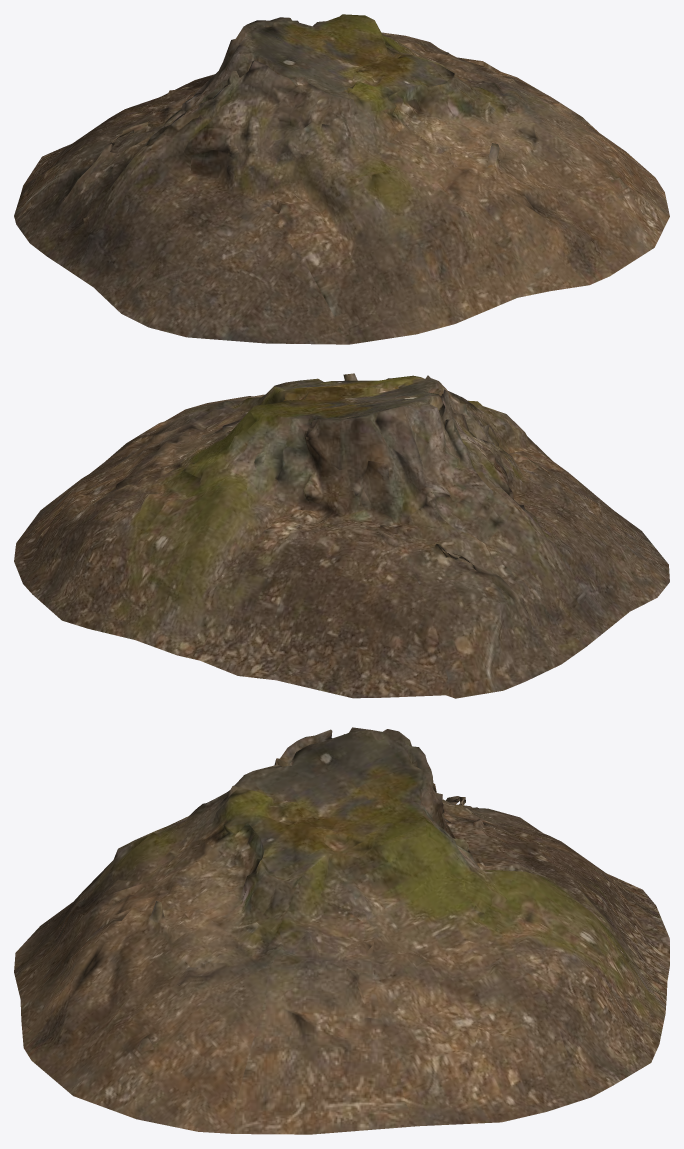
The model's file is tree_stump_02.glb.
The picture shows the model from 3 angles, top to bottom: view 1: azimuth 30°, elevation 25°; view 2: azimuth 150°, elevation 25°; view 3: azimuth 270°, elevation 25°; orthographic projection. The views are drawn at different scales.
Parts seen in each view (by area): view 1: tree_stump_02; view 2: tree_stump_02; view 3: tree_stump_02.
Boxes of the visible parts, x1=… form: tree_stump_02: x1=14, y1=14, x2=669, y2=344; tree_stump_02: x1=14, y1=373, x2=669, y2=698; tree_stump_02: x1=14, y1=727, x2=669, y2=1134.
Size of the model in its own units: 1.52 by 0.5196 by 1.39.
Materials: 1 (1 with a texture image).
